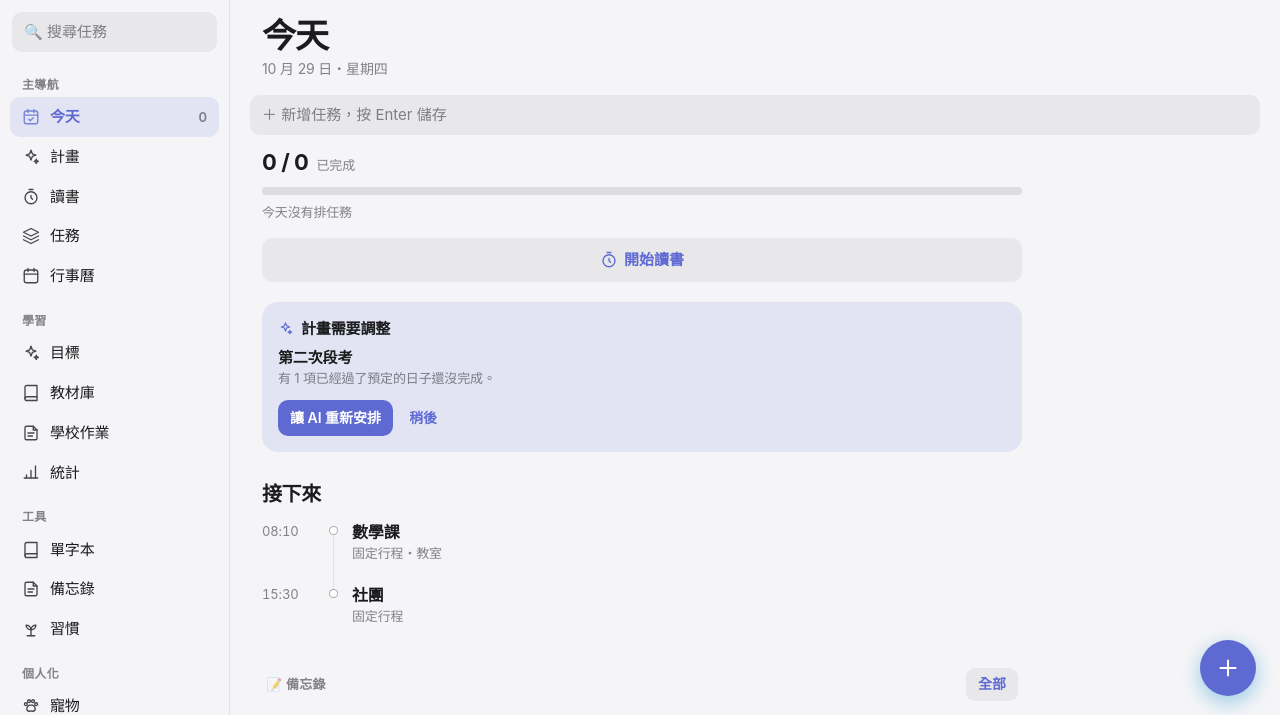
Test: 兩個入口進同一套重排流程 › 8. Today 的 CTA 打開重排確認畫面
expect the heading "今天" is shown: met, box x1=262 y1=15 x2=328 y2=56
Click the button "讓 AI 重新安排": click(336, 418) x1=278 y1=400 x2=393 y2=436
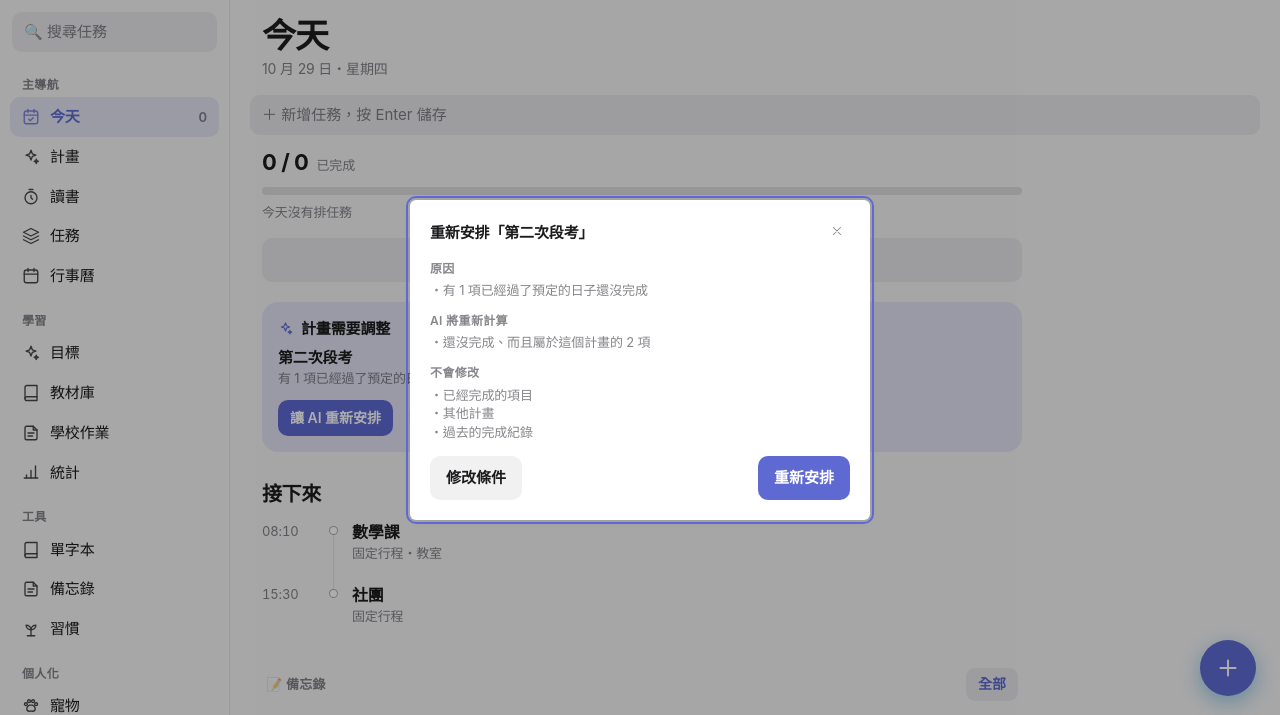
expect the text "重新安排「第二次段考」" is shown: met, box x1=430 y1=222 x2=593 y2=244
expect the text "・還沒完成、而且屬於這個計畫的 2 項" is shown: met, box x1=430 y1=334 x2=650 y2=350
expect the text "・已經完成的項目" is shown: met, box x1=430 y1=386 x2=533 y2=402
